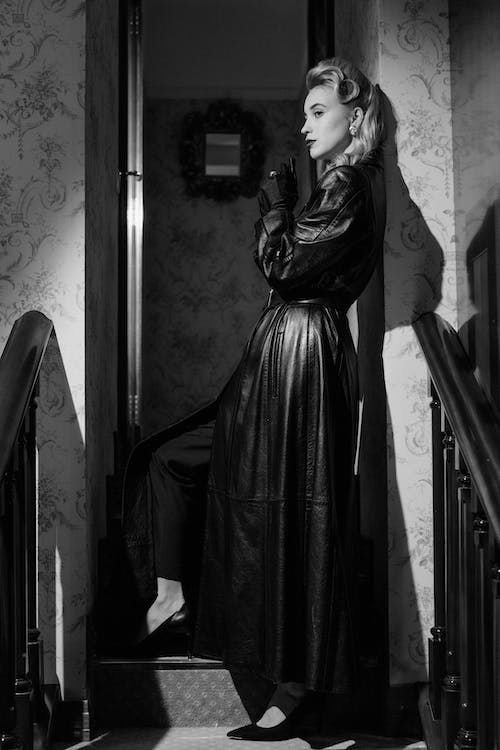gun: (280, 152, 303, 208)
